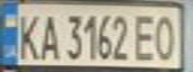1: (81, 11, 97, 61)
2: (109, 10, 133, 62)
3: (60, 10, 84, 61)
6: (96, 10, 115, 61)
A: (36, 9, 60, 61)
E: (130, 10, 160, 62)
K: (12, 9, 42, 61)
O: (151, 10, 181, 62)
